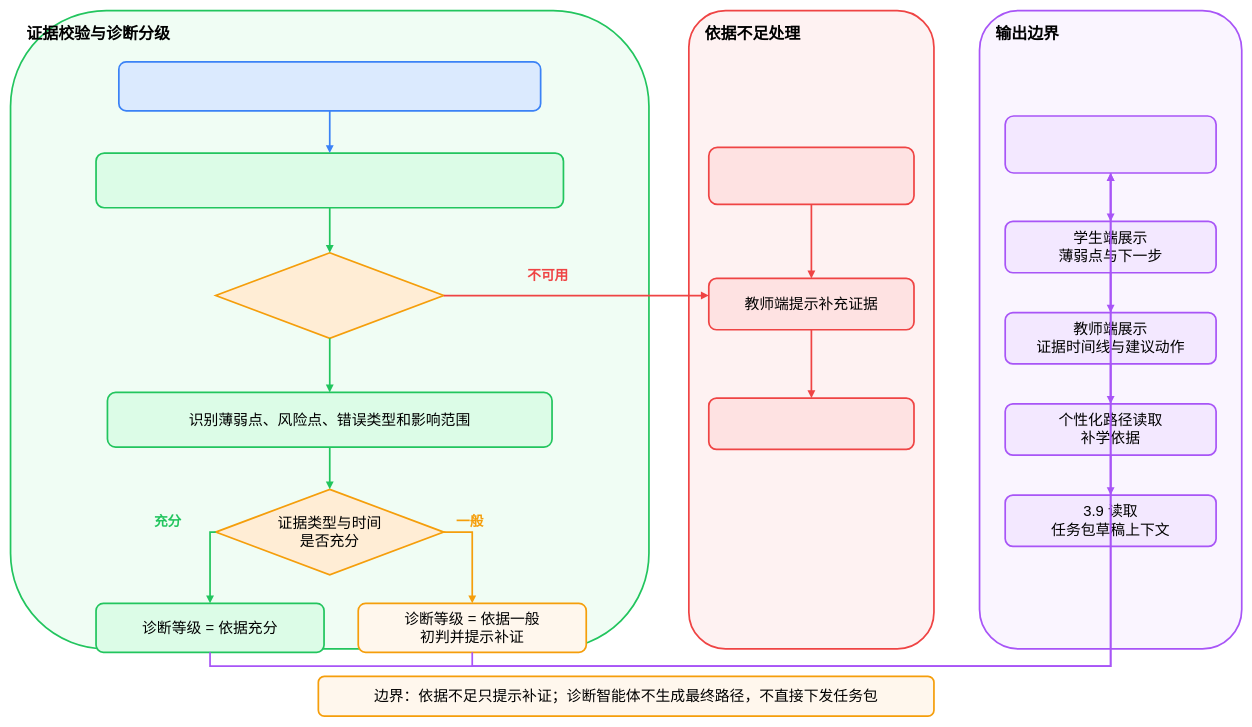
Image size: 1252x727. Some labels were removed from this diagram. Here are the shapes that lost their labels. From the top down, the centre of each, then its label:
At point 329,86: "学生 / 教师 / 看板发起诊断请求".
At point 1110,144: "统一诊断结论 薄弱点 / 原因 / 依据等级".
At point 329,180: "系统读取画像、课程图谱与学习证据".
At point 811,175: "标记依据不足 未布置 / 未完成 / 样本少 / 过旧".
At point 329,295: "证据是否可用".
At point 811,423: "学生端提示完成任务".
